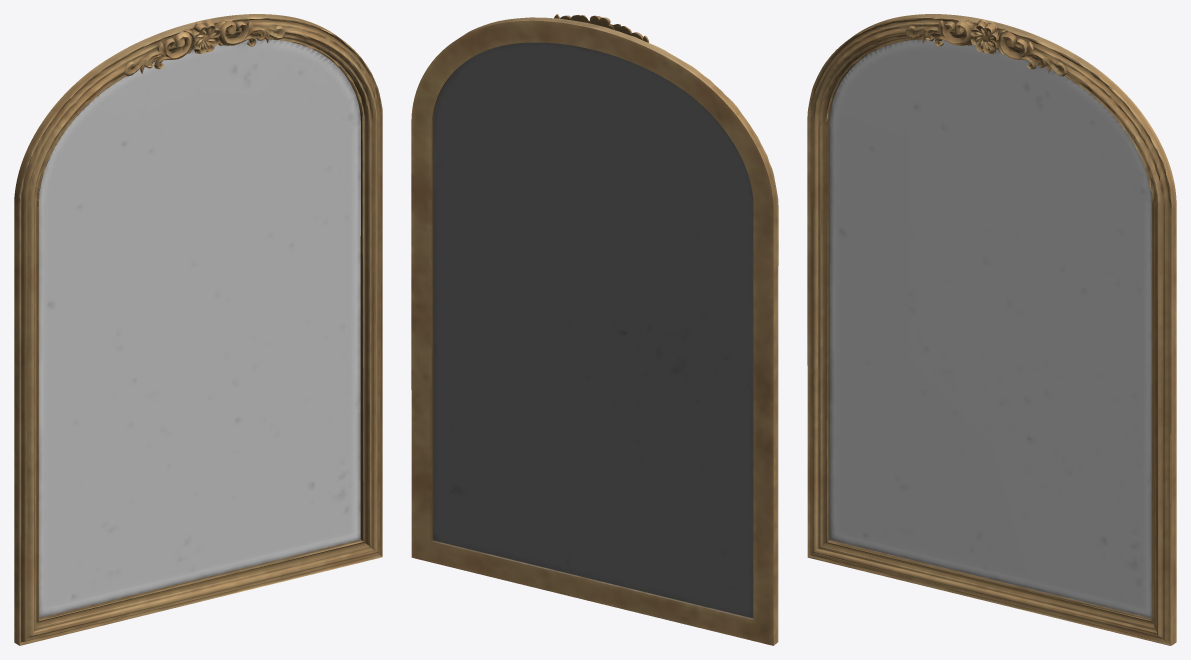
The model's file is mirror.glb.
3 views of the same model, side by side, from view 1: azimuth 30°, elevation 25°; view 2: azimuth 150°, elevation 25°; view 3: azimuth 330°, elevation 25° (orthographic).
Parts seen in each view (by area): view 1: mesh; view 2: mesh; view 3: mesh.
Part boxes in pixels (box(x1,y1,x2,y2)): mesh: box(14, 14, 382, 645); mesh: box(411, 14, 778, 645); mesh: box(807, 14, 1176, 645).
Bounding box in the file's own units: 0.4865 × 0.7442 × 0.026.
Materials: 1 (1 with a texture image).
